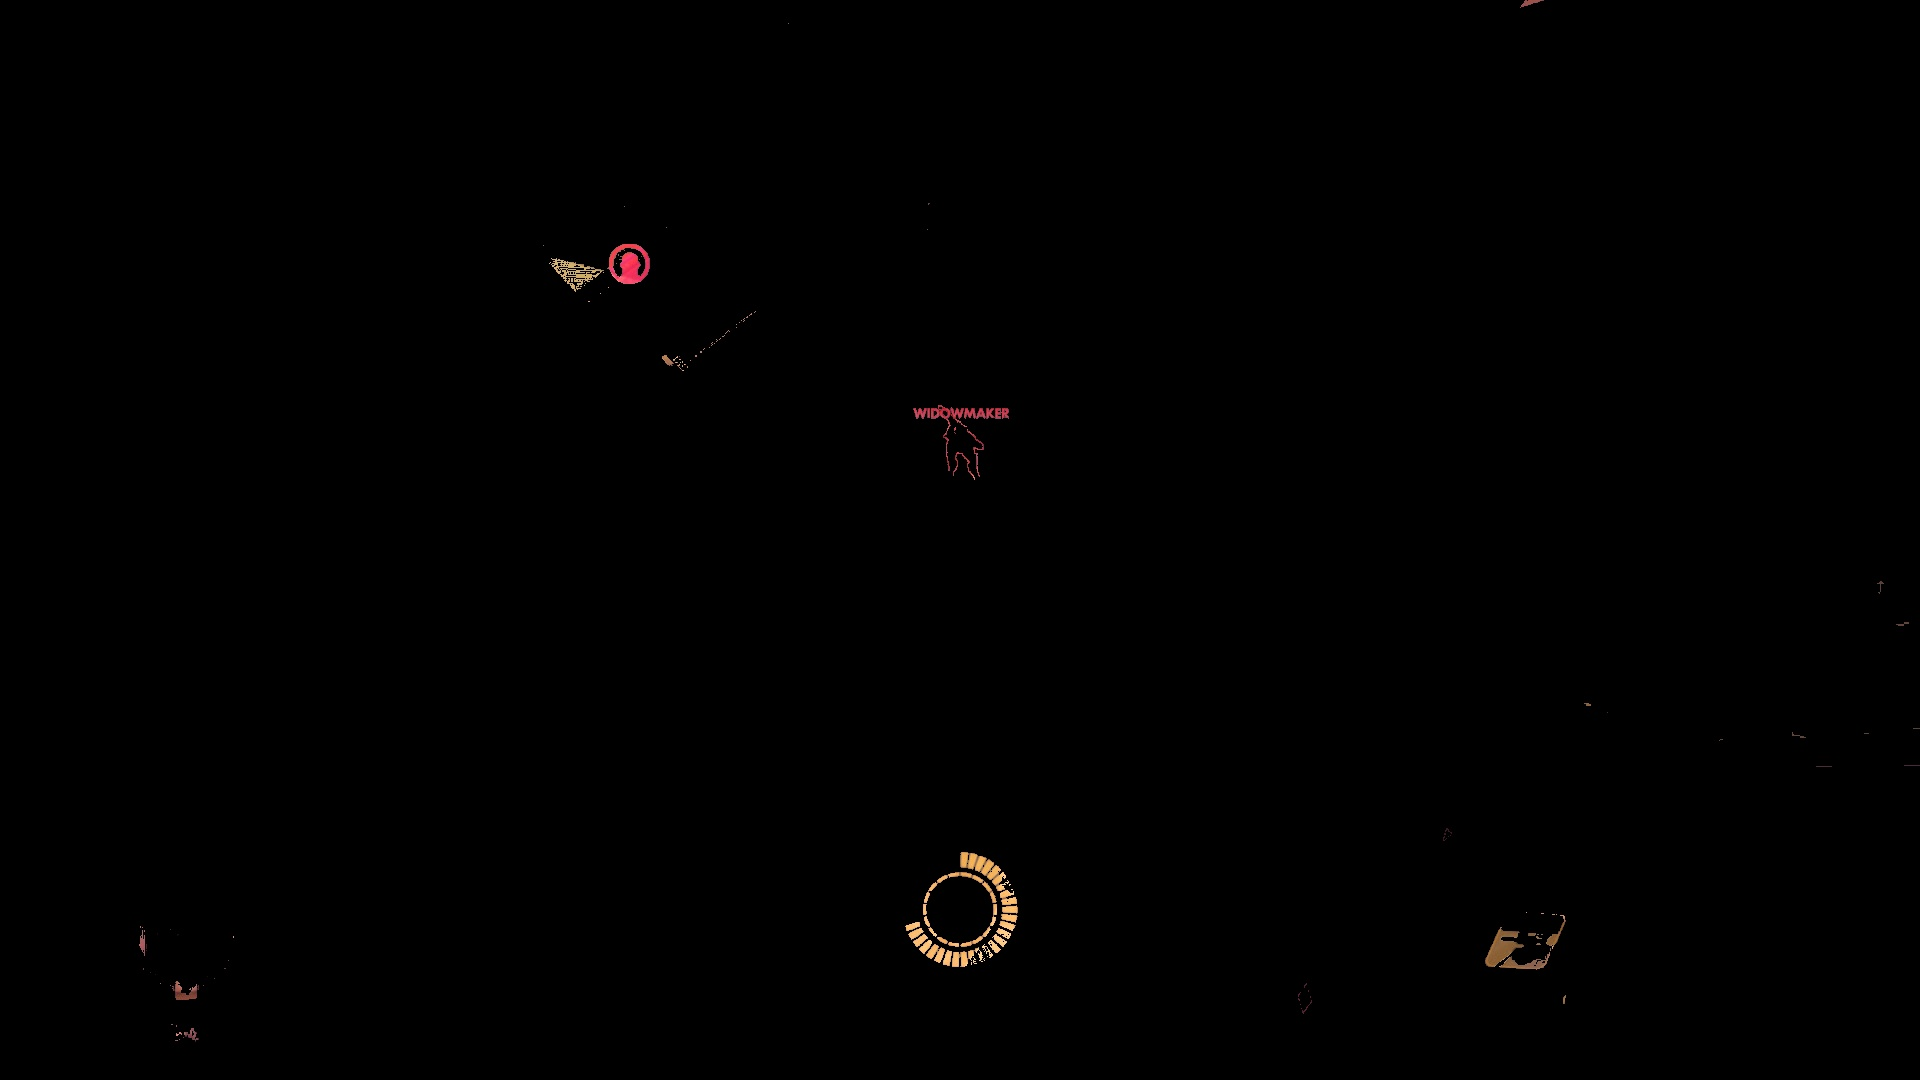widowmaker: (943, 419, 985, 484)
